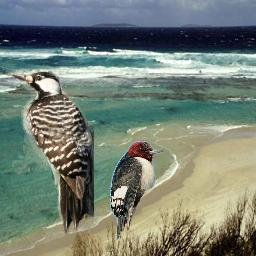Woodpecker: (11, 71, 94, 236), (110, 141, 164, 240)
